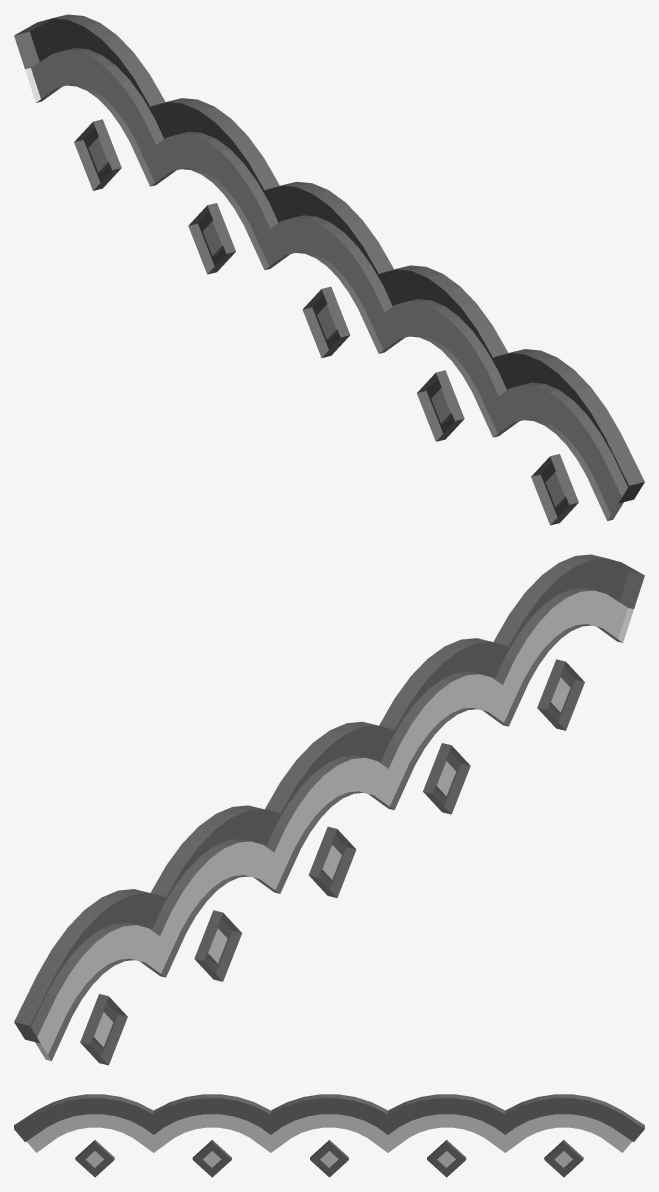
Rendered from SM_wallDecor_01.glb.
3 views of the same model, one above another, from view 1: azimuth 30°, elevation 25°; view 2: azimuth 150°, elevation 25°; view 3: azimuth 270°, elevation 25° (orthographic). The views are drawn at different scales.
Visible parts, largest first — view 1: SM_wallDecor_01; view 2: SM_wallDecor_01; view 3: SM_wallDecor_01.
Part boxes in pixels (<box>): SM_wallDecor_01: <box>14,14,644,525</box>; SM_wallDecor_01: <box>14,554,644,1065</box>; SM_wallDecor_01: <box>14,1094,644,1177</box>.
Bounding box in the file's own units: 0.08 × 0.7624 × 5.38.
Materials: 1 (1 with a texture image).
